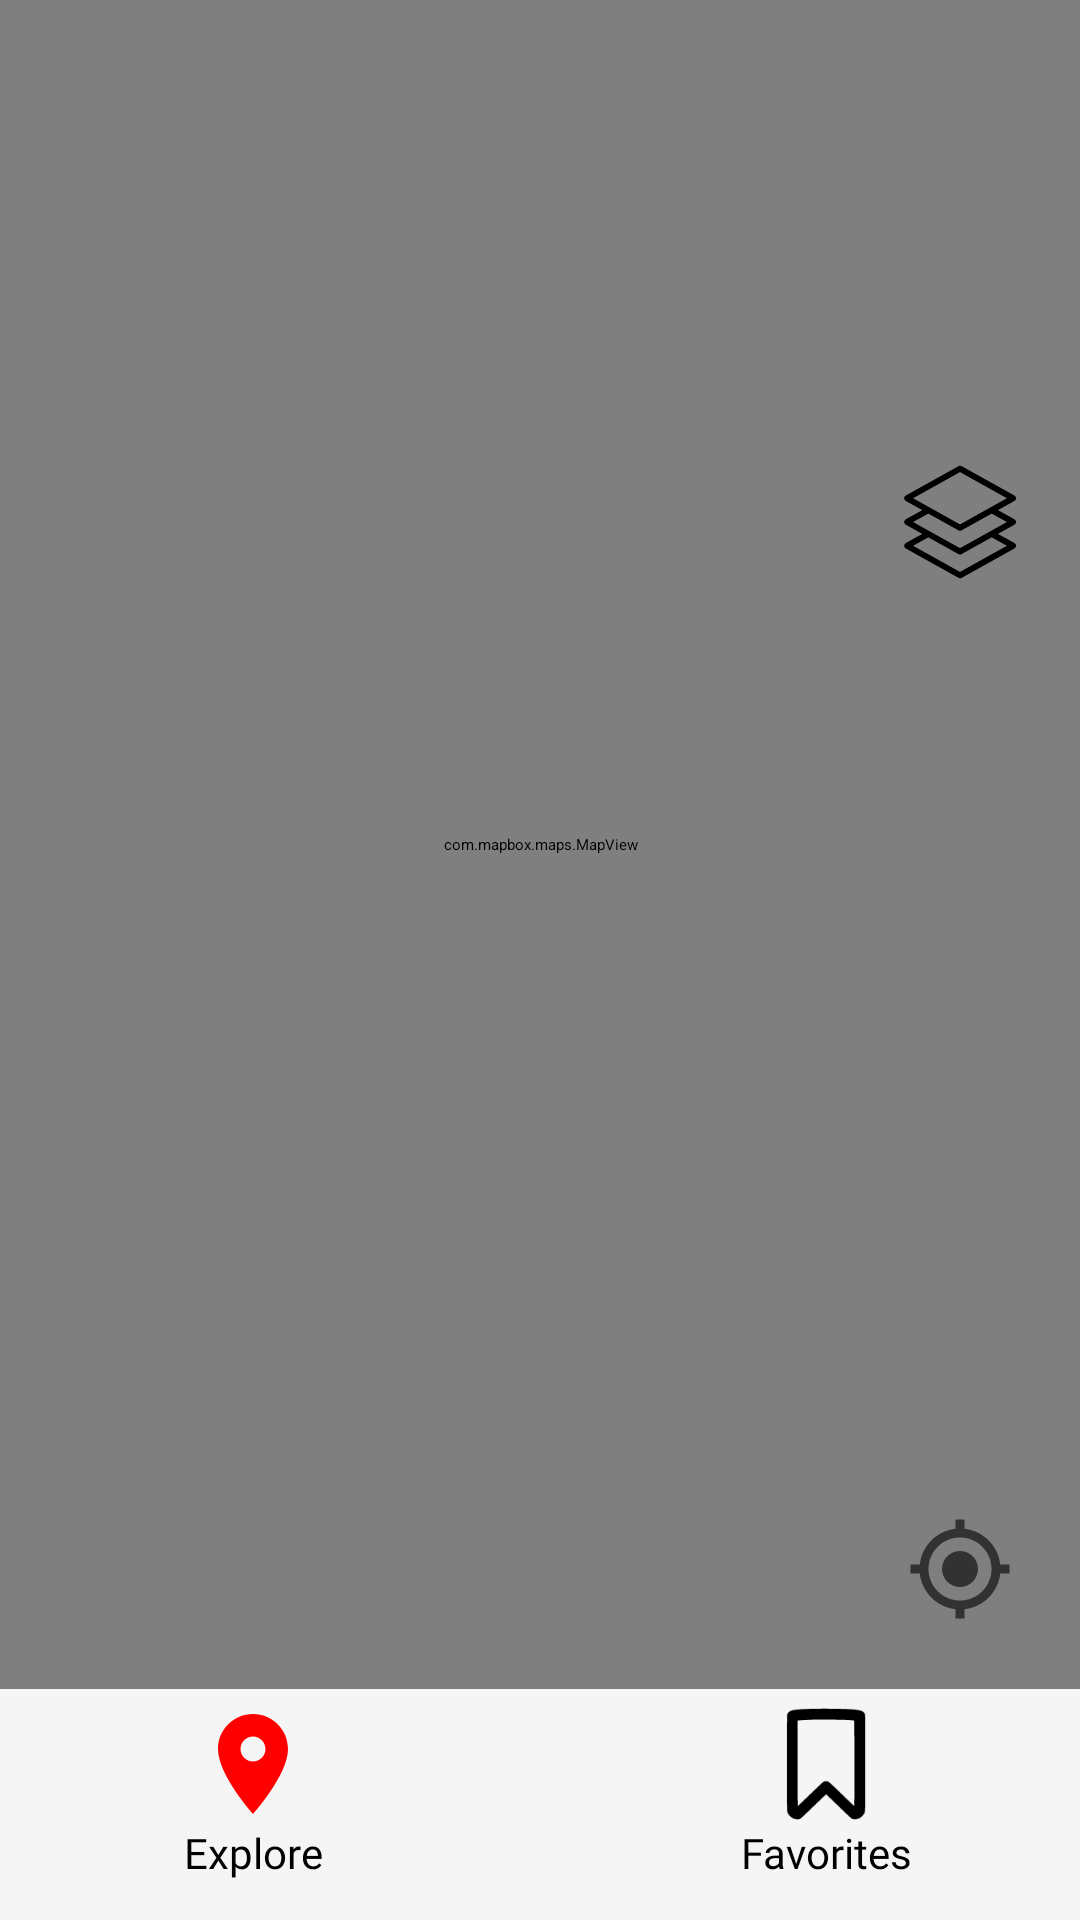

Icon bounding boxes for this 1080px×1920px phone screenshot, format (x1, y1, x2, y2):
Center Location: (910, 1519, 1010, 1619)
Change Base Map: (904, 465, 1016, 579)
